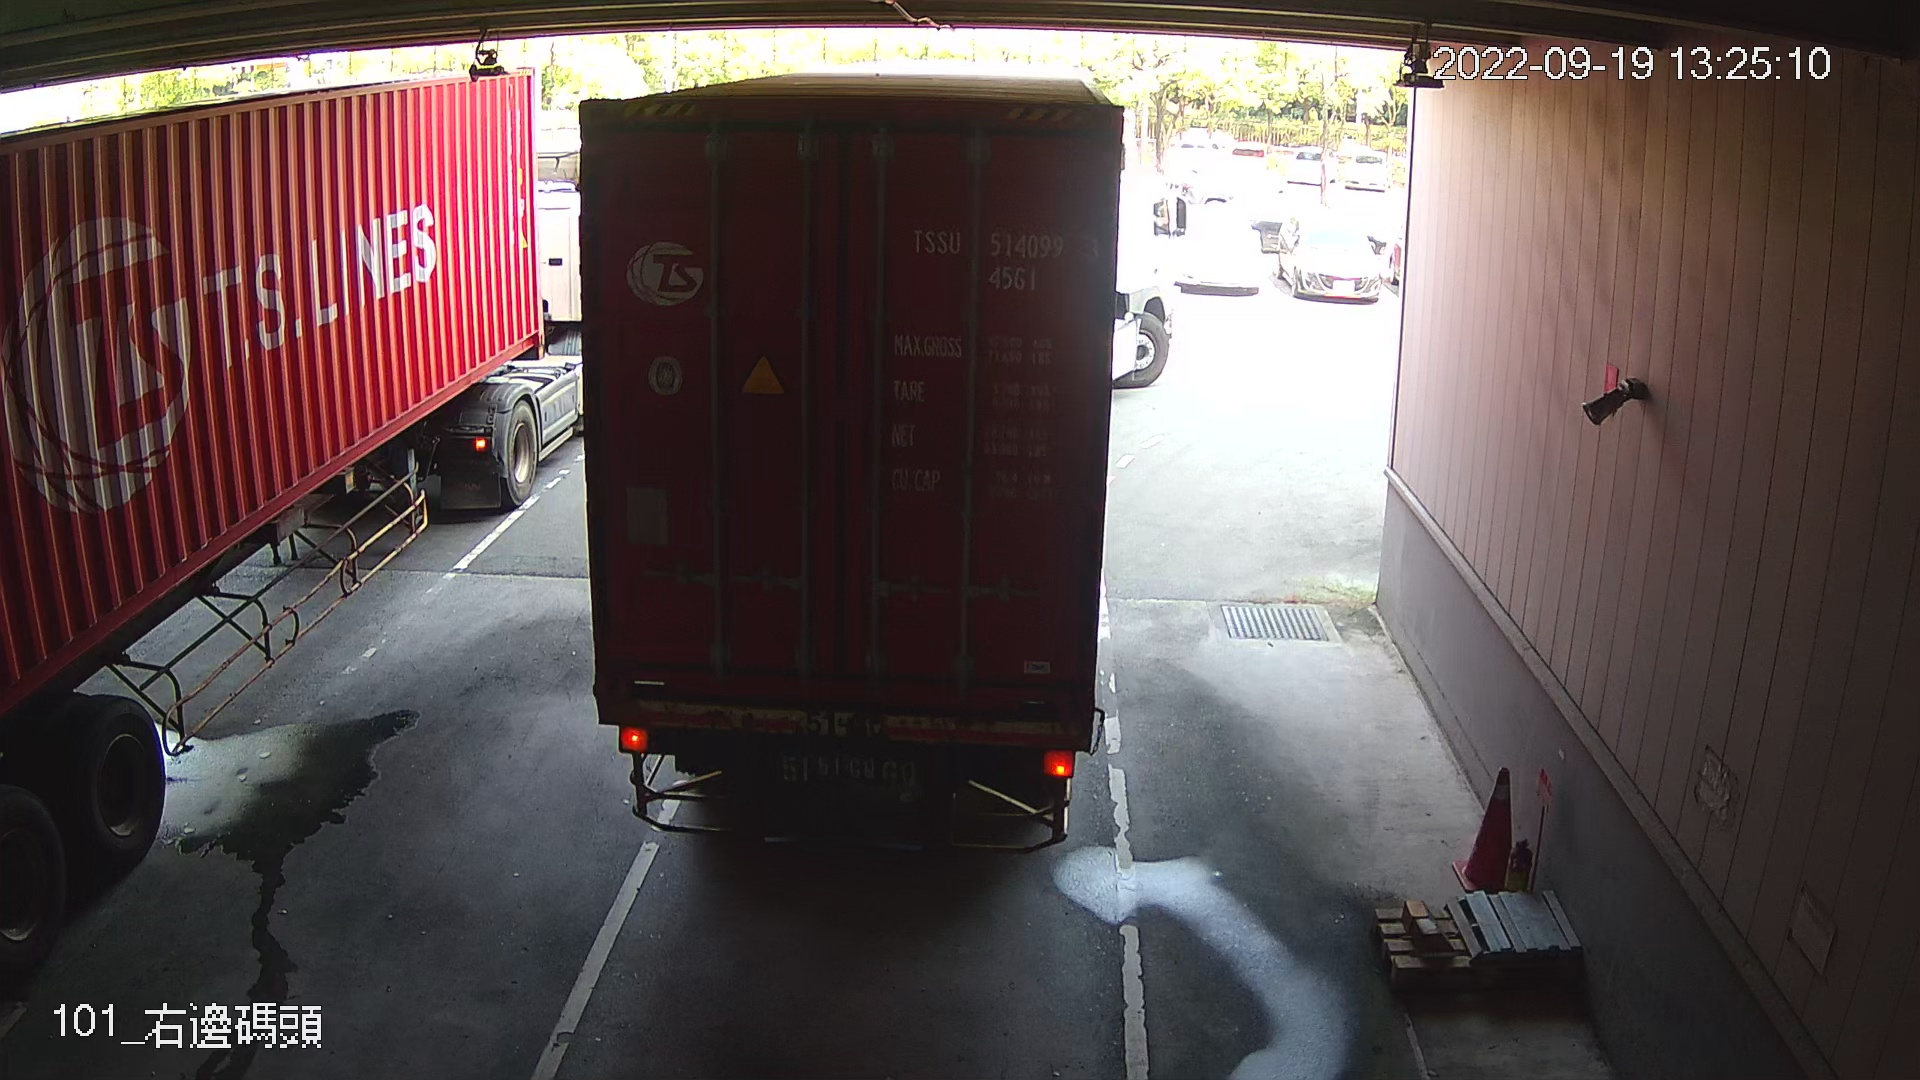container: (907, 219, 1109, 298)
